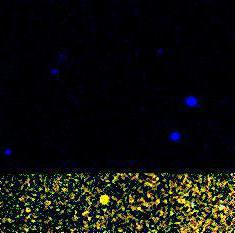star: (90, 184, 120, 214)
